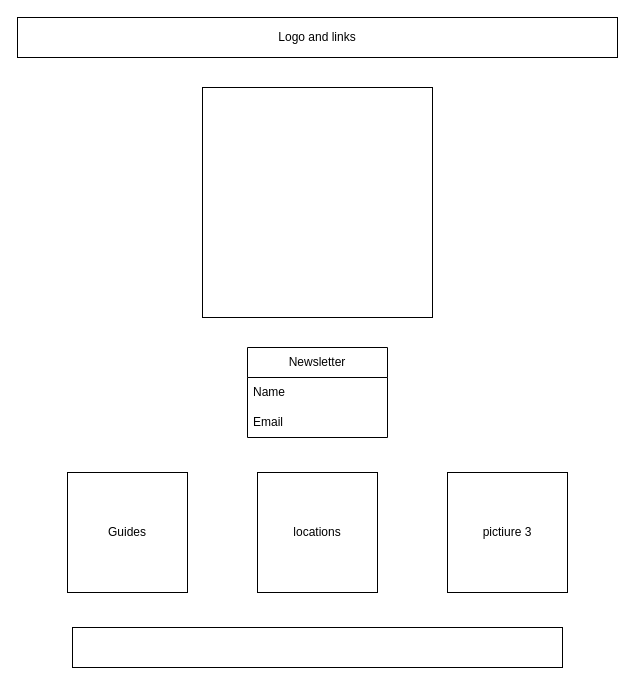
The diagram is 635 pixels wide and 685 high, and some of its shapes have lost their labels. Here are the shapes that lost their labels. From the top down, the centre of each, then its label:
At point 317,202: "image 1 Full width and heading message".
At point 317,647: "social media links".
